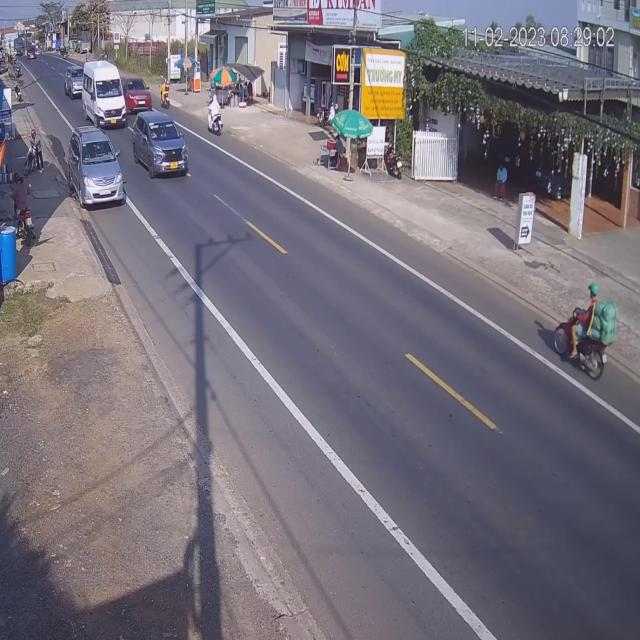bus: (80, 60, 125, 129)
car: (68, 125, 126, 208), (132, 112, 188, 181), (124, 75, 152, 113), (66, 66, 84, 102)
motorbike: (553, 288, 614, 382), (207, 98, 224, 136), (158, 81, 168, 106), (162, 83, 171, 110)
